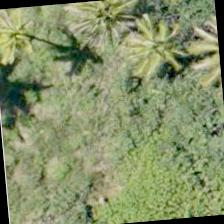Kelapa_Sawit: (65, 0, 161, 65)
